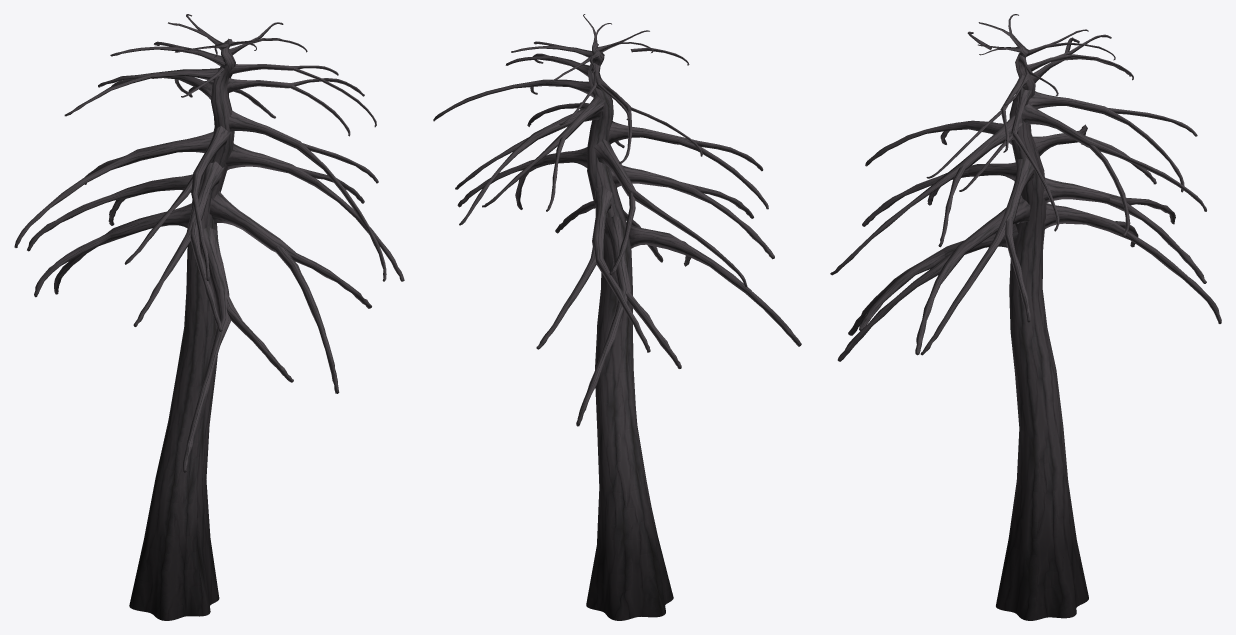
The model's file is DeadTree_4.glb.
3 renders of one model, left to right at view 1: azimuth 30°, elevation 25°; view 2: azimuth 150°, elevation 25°; view 3: azimuth 270°, elevation 25°, orthographic. The views are drawn at different scales.
Parts seen in each view (by area): view 1: DeadTree_4; view 2: DeadTree_4; view 3: DeadTree_4.
Part boxes in pixels (x1,y1,x2,y2): DeadTree_4: (14,14,404,620); DeadTree_4: (433,14,801,620); DeadTree_4: (830,14,1221,620).
Bounding box in the file's own units: 7.96 × 12.77 × 7.73.
1 material, 1 textured.
